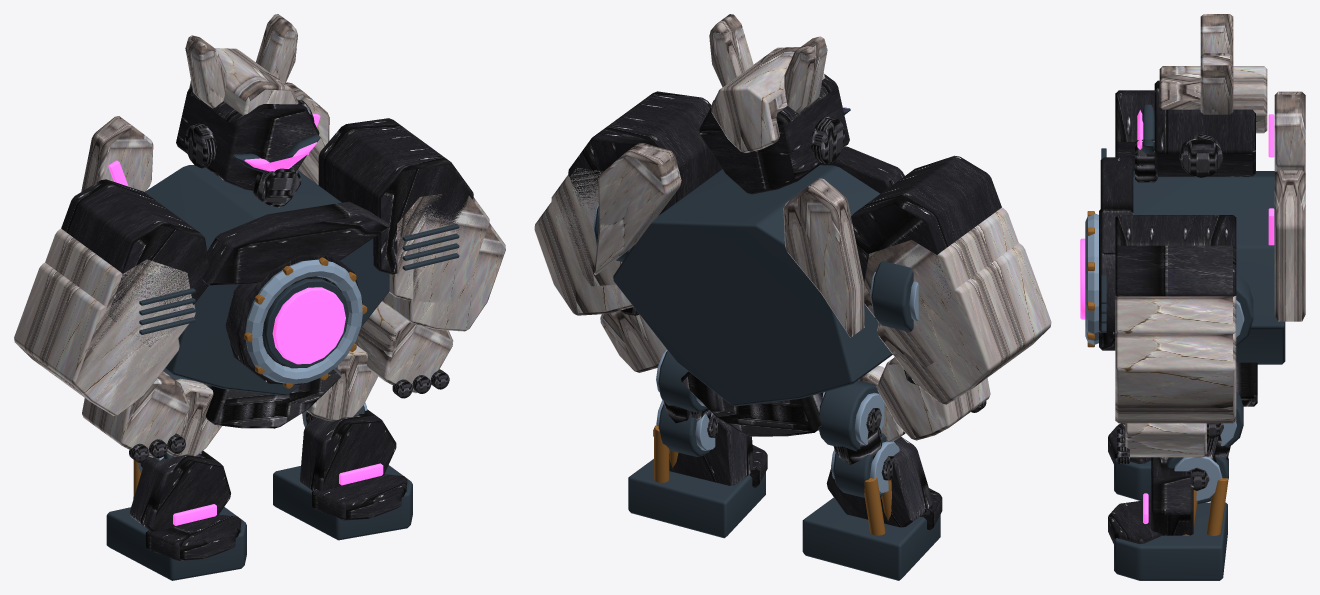
Rendered from heavy.glb.
3 views of the same model, side by side, from view 1: azimuth 30°, elevation 25°; view 2: azimuth 150°, elevation 25°; view 3: azimuth 270°, elevation 25° (orthographic). The views are drawn at different scales.
Parts seen in each view (by area): view 1: Navy crown, Upper chest plating, Reinforced heavy torso, Greave armor, Face guard, Greave armor.001, Reactor concentric ring, Reactor lens, Servo housing.001, Servo housing.004, Tapered thigh shield.001, Tapered thigh shield; view 2: Navy crown, Reinforced heavy torso, Upper chest plating, Servo housing.001, Servo housing.004, Face guard, Greave armor, Greave armor.001, Bearing ring.002, Hub.002, Calf piston, Calf piston.002 (+3 smaller); view 3: Navy crown, Upper chest plating, Reinforced heavy torso, Servo housing.004, Greave armor.001, Face guard, Reactor concentric ring, Servo housing.001, Bearing ring.008, Hub.008, Calf piston.002, Reactor lens (+3 smaller).
Part boxes in pixels (left/top/right/bottom): Navy crown: left=14, top=14, right=505, bottom=457; Upper chest plating: left=61, top=86, right=473, bottom=384; Reinforced heavy torso: left=139, top=134, right=459, bottom=395; Greave armor: left=130, top=450, right=241, bottom=560; Face guard: left=129, top=99, right=449, bottom=462; Greave armor.001: left=300, top=409, right=407, bottom=520; Reactor concentric ring: left=245, top=259, right=362, bottom=384; Reactor lens: left=244, top=142, right=345, bottom=364; Servo housing.001: left=106, top=369, right=246, bottom=580; Servo housing.004: left=273, top=405, right=412, bottom=540; Tapered thigh shield.001: left=306, top=345, right=377, bottom=421; Tapered thigh shield: left=167, top=378, right=221, bottom=456; Navy crown: left=534, top=14, right=1051, bottom=440; Reinforced heavy torso: left=594, top=108, right=913, bottom=406; Upper chest plating: left=568, top=74, right=1001, bottom=303; Servo housing.001: left=802, top=380, right=940, bottom=580; Servo housing.004: left=628, top=350, right=765, bottom=538; Face guard: left=620, top=100, right=986, bottom=436; Greave armor: left=826, top=437, right=942, bottom=530; Greave armor.001: left=653, top=419, right=767, bottom=487; Bearing ring.002: left=818, top=392, right=899, bottom=493; Hub.002: left=833, top=408, right=895, bottom=480; Calf piston: left=864, top=478, right=891, bottom=535; Calf piston.002: left=654, top=425, right=678, bottom=482; Navy crown: left=1115, top=14, right=1305, bottom=457; Upper chest plating: left=1099, top=80, right=1255, bottom=350; Reinforced heavy torso: left=1101, top=104, right=1285, bottom=364; Servo housing.004: left=1114, top=392, right=1243, bottom=580; Greave armor.001: left=1108, top=457, right=1193, bottom=543; Face guard: left=1117, top=134, right=1257, bottom=463; Reactor concentric ring: left=1085, top=213, right=1244, bottom=344; Servo housing.001: left=1114, top=458, right=1151, bottom=500; Bearing ring.008: left=1174, top=421, right=1236, bottom=500; Hub.008: left=1187, top=423, right=1230, bottom=490; Calf piston.002: left=1182, top=478, right=1228, bottom=535; Reactor lens: left=1080, top=110, right=1143, bottom=319.
Bounding box in the file's own units: 1.52 × 1.64 × 0.689.
8 materials, 3 textured.
